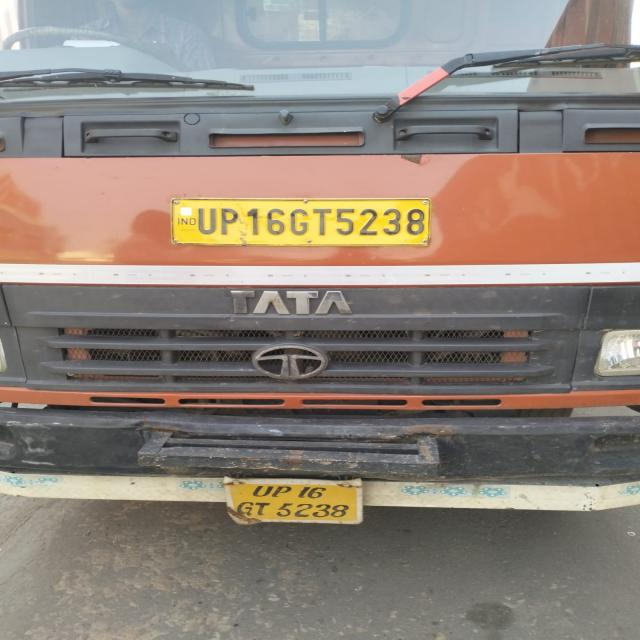License-plate: (154, 188, 442, 255)
